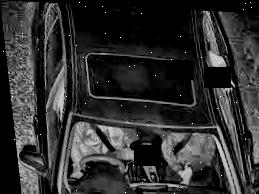seatbelt: (155, 130, 199, 163), (83, 120, 115, 156)
